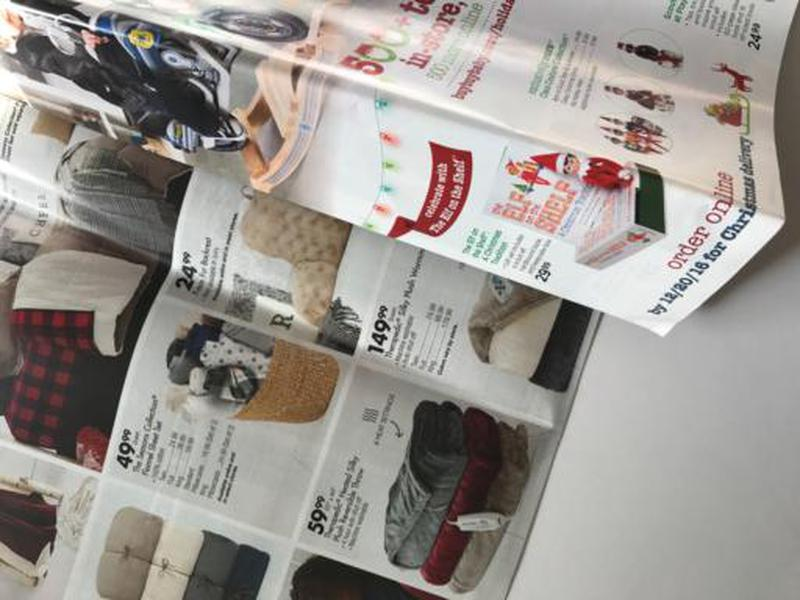paper: (1, 2, 796, 600)
